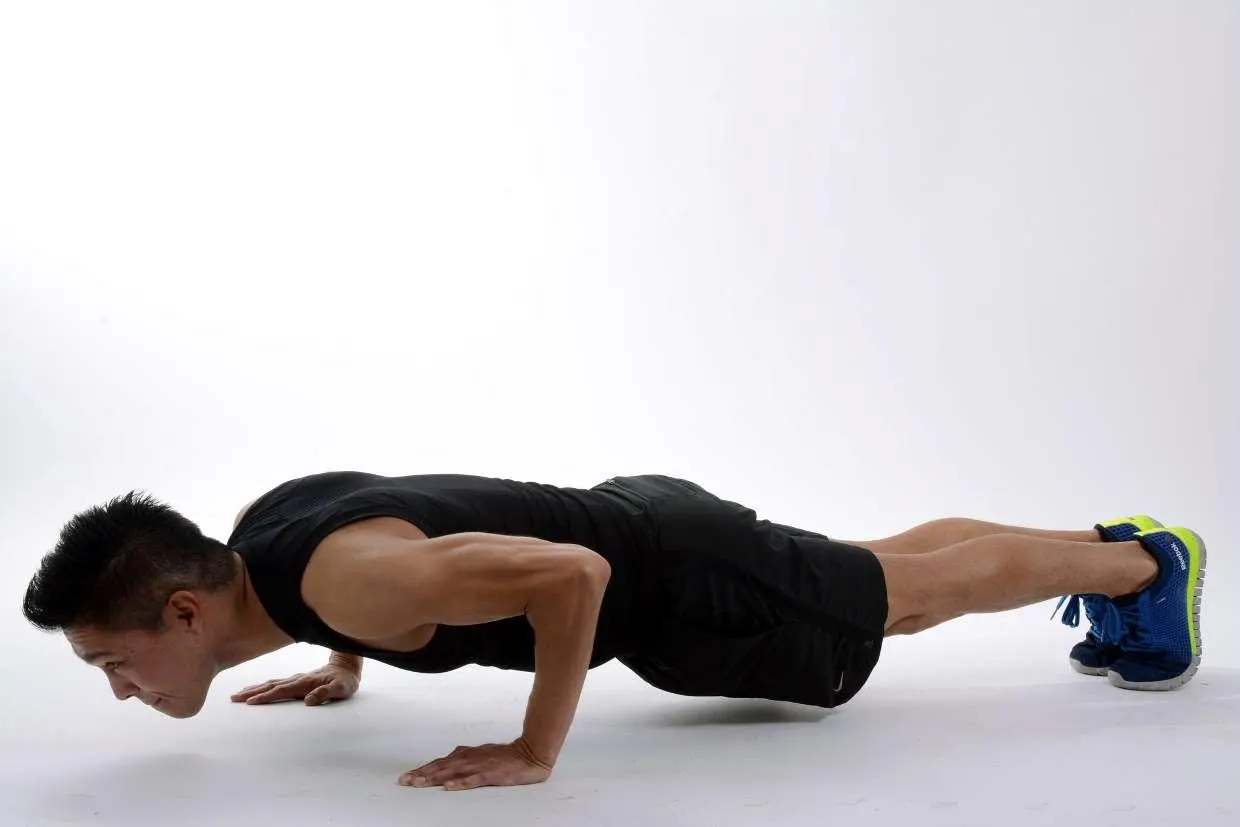down: (22, 467, 1206, 793)
